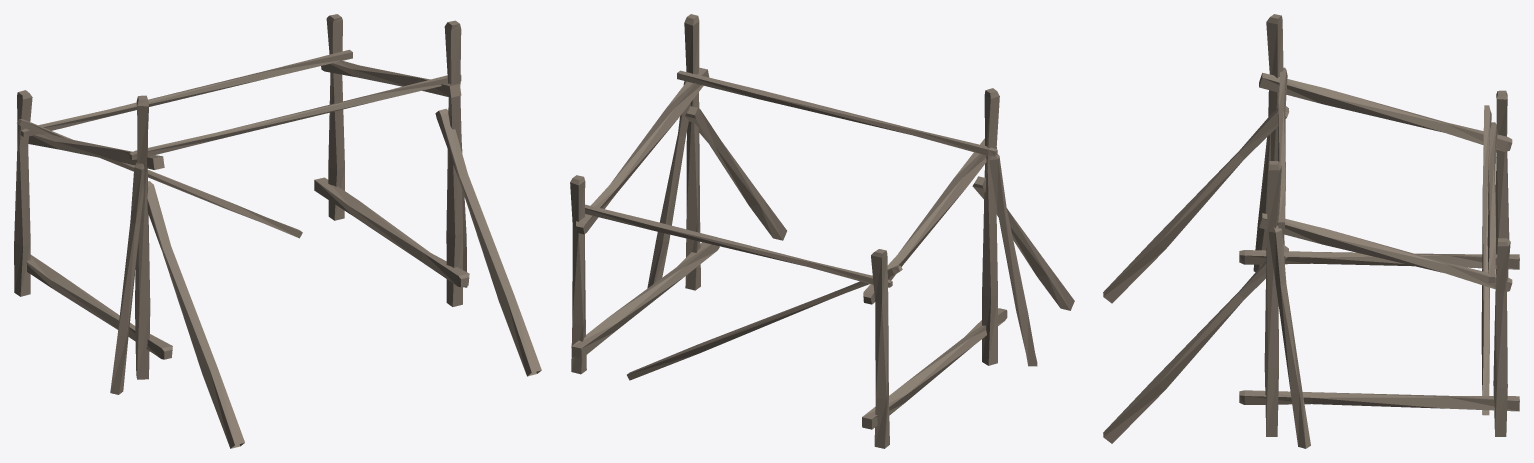
Rendered from SM_Bld_Tent_06.glb.
3 views of the same model, side by side, from view 1: azimuth 30°, elevation 25°; view 2: azimuth 150°, elevation 25°; view 3: azimuth 270°, elevation 25° (orthographic). The views are drawn at different scales.
Visible parts, largest first — view 1: SM_Bld_Tent_06_00; view 2: SM_Bld_Tent_06_00; view 3: SM_Bld_Tent_06_00.
Part boxes in pixels (x1,y1,x2,y2): SM_Bld_Tent_06_00: (14, 14, 541, 448); SM_Bld_Tent_06_00: (570, 14, 1074, 448); SM_Bld_Tent_06_00: (1103, 14, 1519, 448).
Bounding box in the file's own units: 3.31 × 2.41 × 3.24.
Materials: 1 (1 with a texture image).
